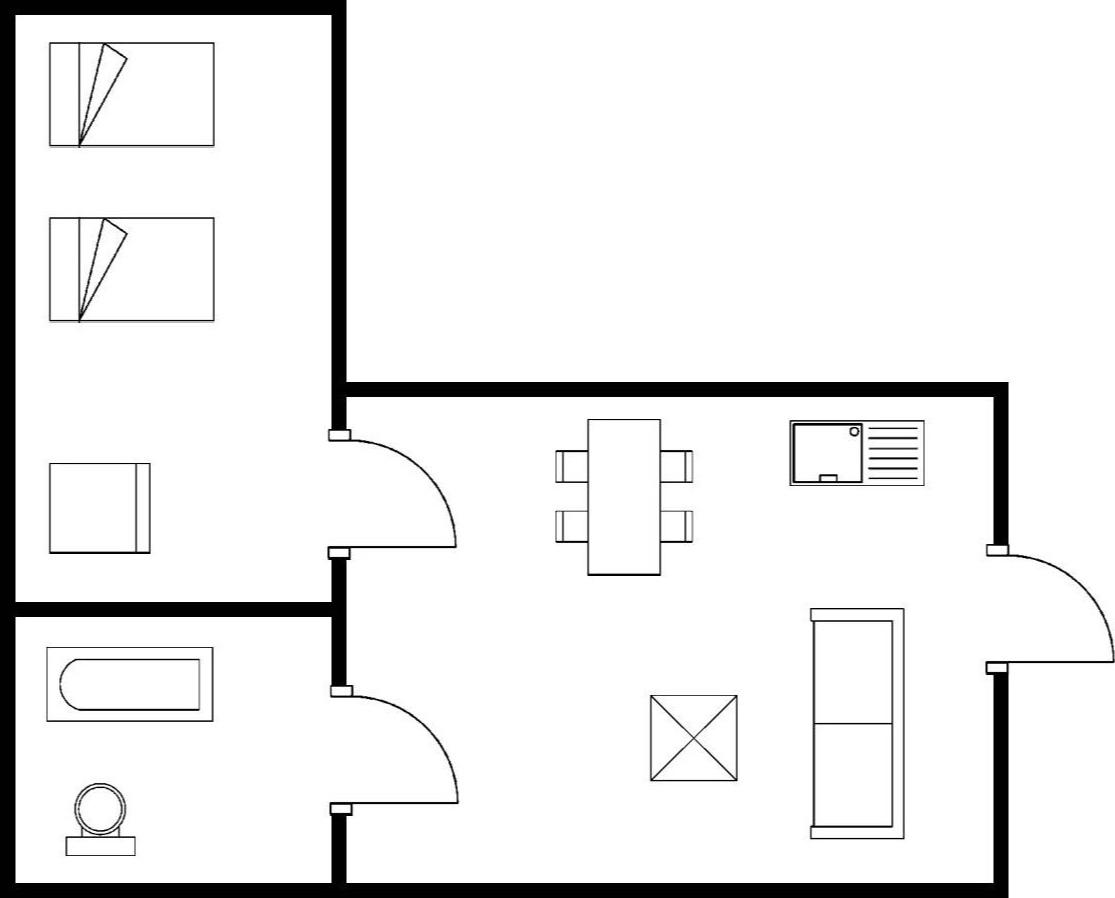bed: (44, 212, 222, 327), (43, 36, 219, 151)
dining_table: (552, 413, 697, 580)
sink: (785, 415, 929, 491)
sofa: (805, 602, 912, 844)
toilet: (61, 778, 140, 862)
tub: (42, 641, 221, 729)
